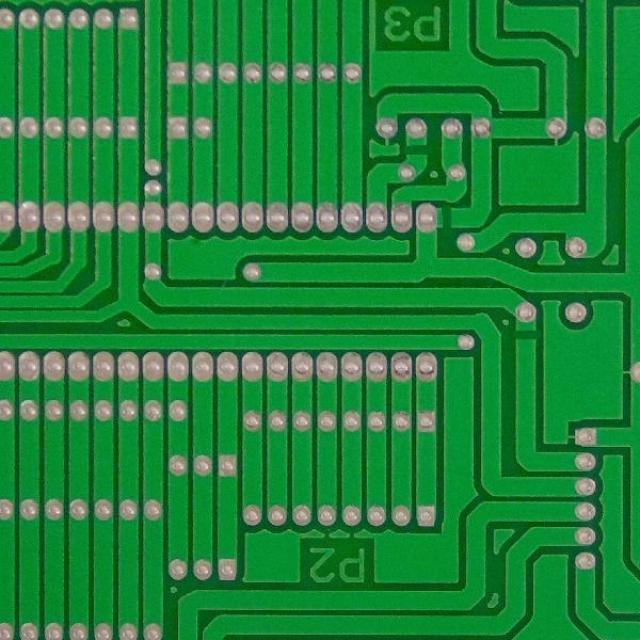Open_Circuit: (502, 323, 552, 356), (433, 198, 458, 236), (398, 140, 436, 158)
